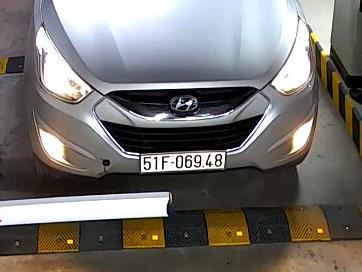number: (139, 151, 225, 174)
